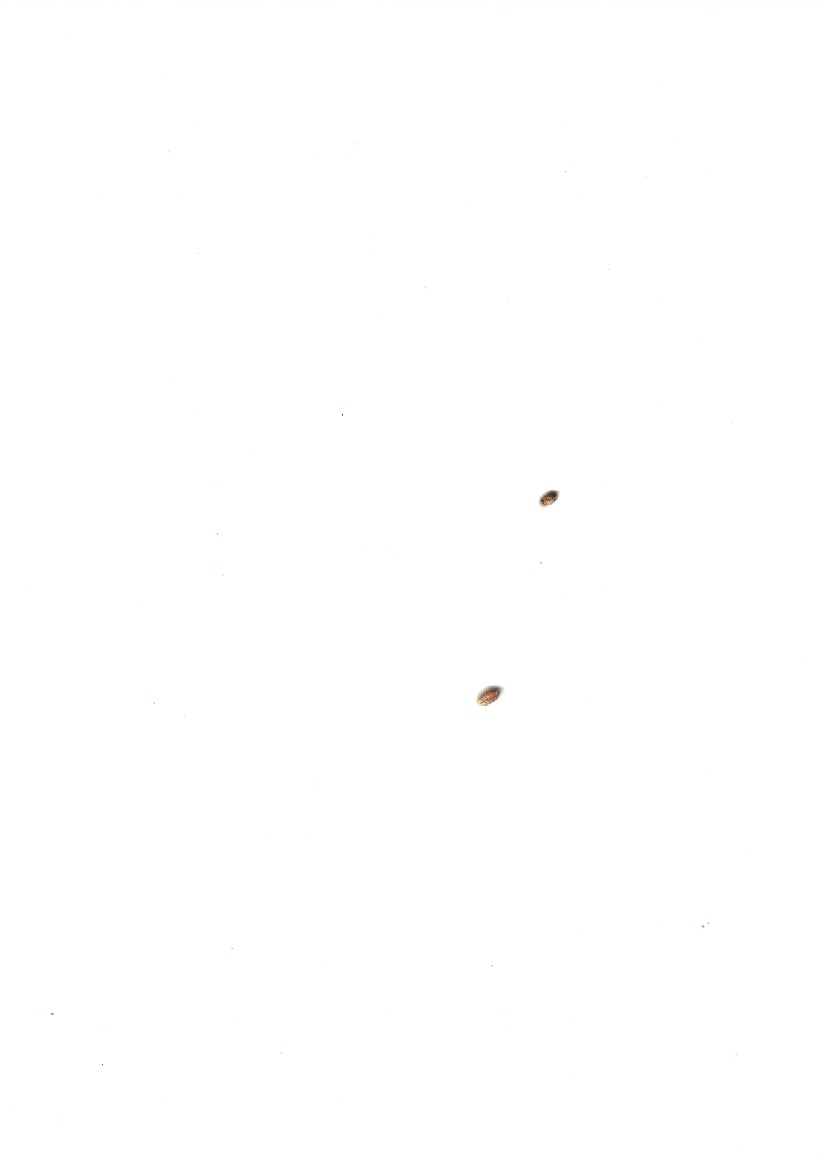grains: (459, 669, 516, 719), (533, 472, 572, 517)
